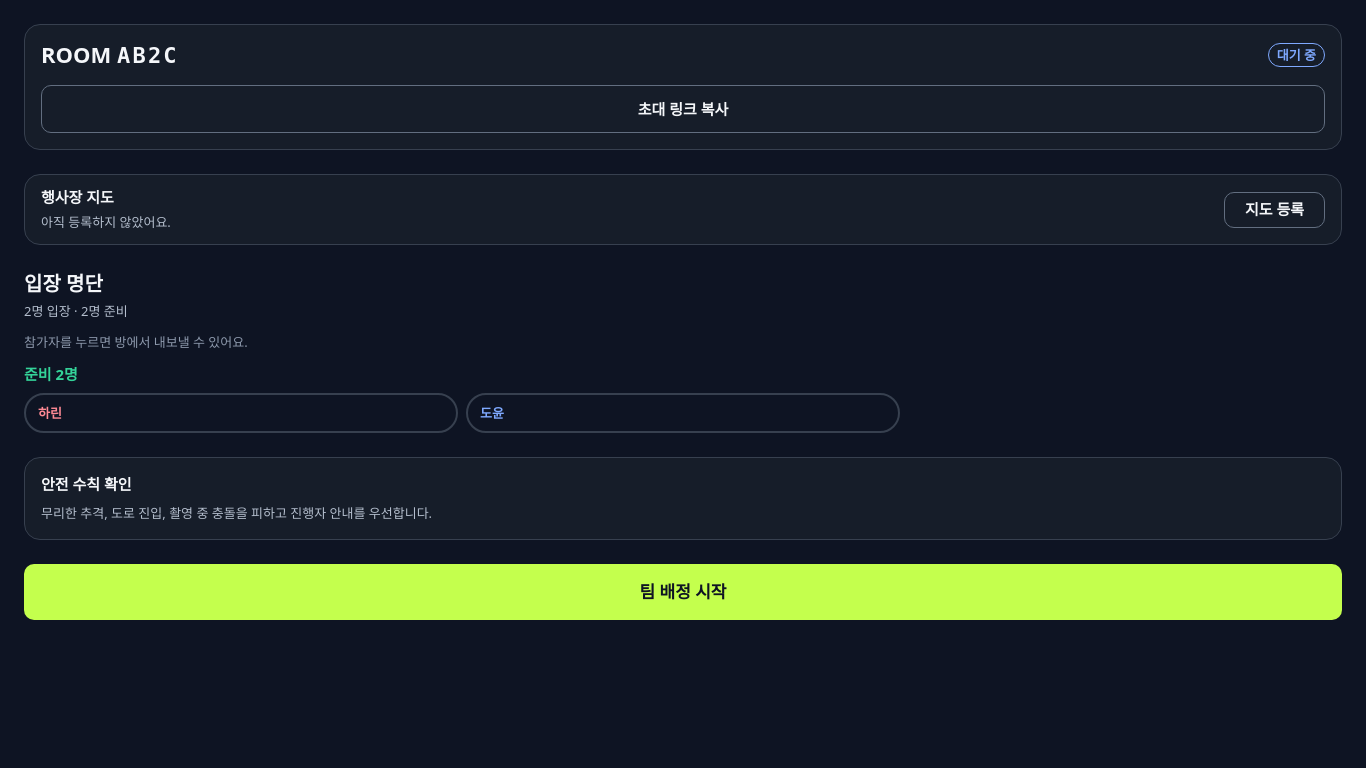
it: WaitingRoomPage › 호스트: 전원 준비 완료면 팀 배정 시작이 배정 보드로 전환한다
Step 1. Click the button "팀 배정 시작" → (683, 592), box [24,564,1342,620]
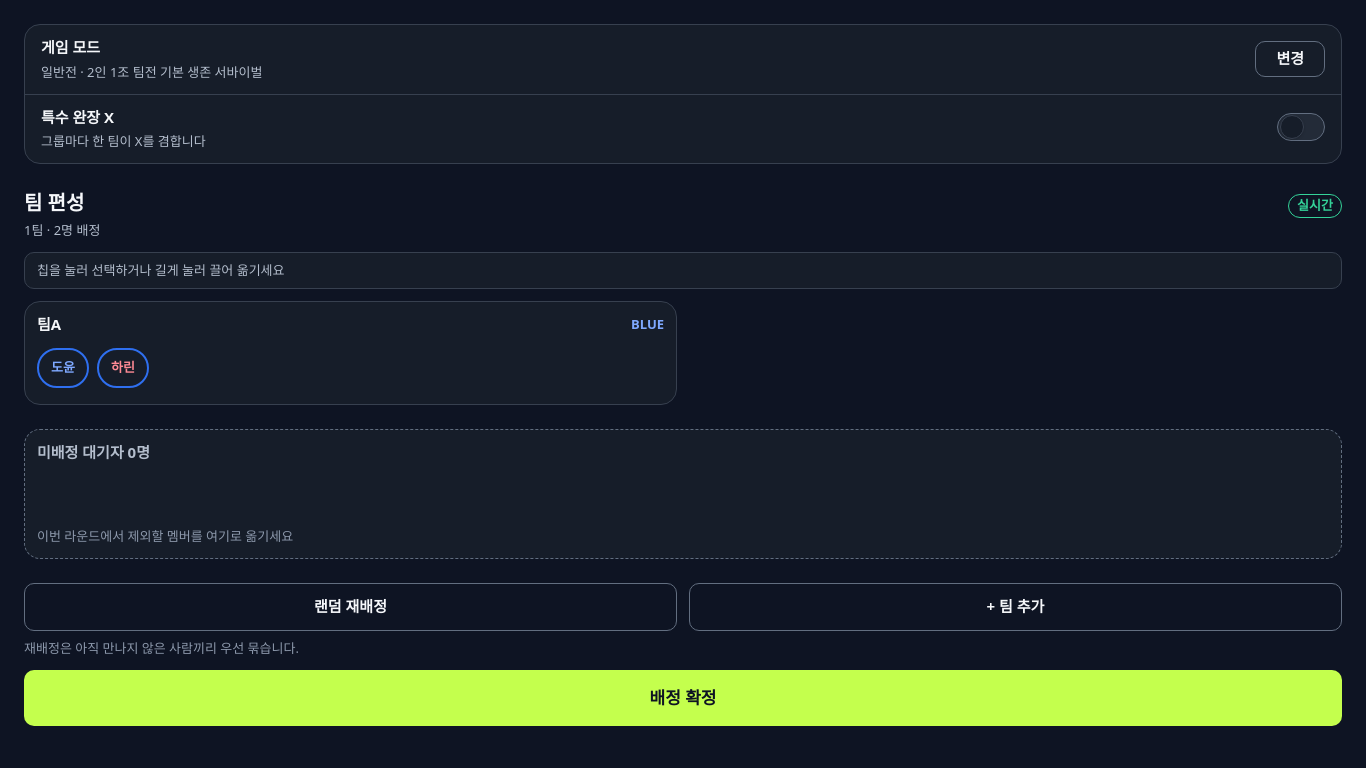
Expected: the text "팀 편성" is shown, [24,189,84,216]
